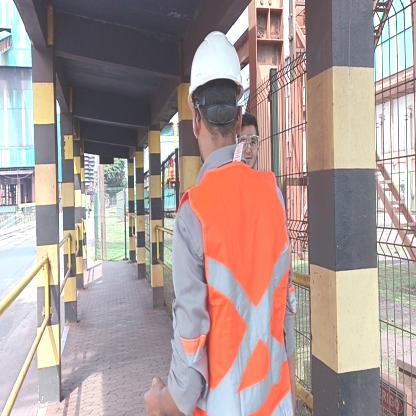Capacete: (187, 23, 246, 94)
colete: (178, 172, 298, 416), (237, 134, 262, 150)
